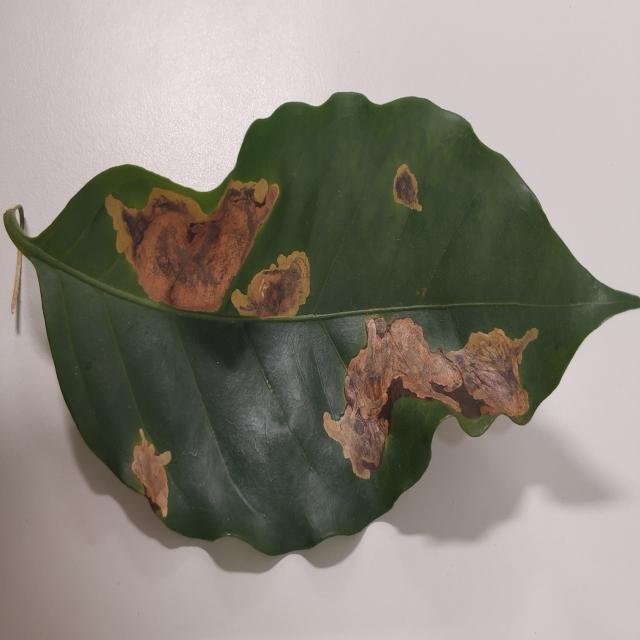Plaga-Minador: (5, 93, 640, 560)
